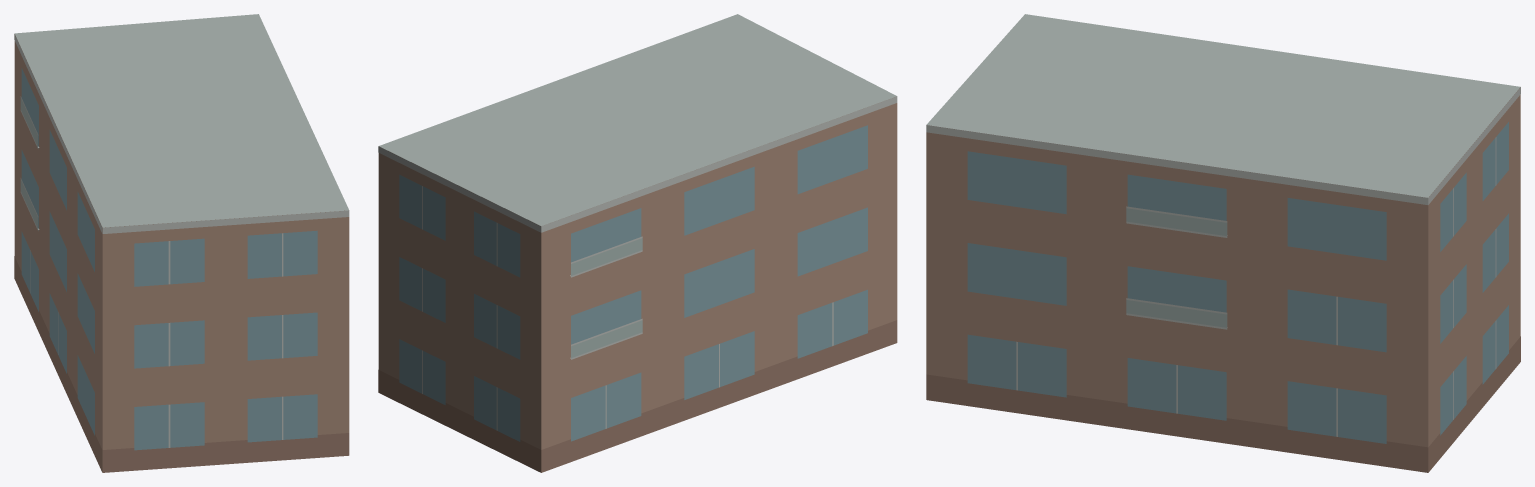
Rendered from survey-upis-32877218.glb.
3 views of the same model, side by side, from view 1: azimuth 30°, elevation 25°; view 2: azimuth 150°, elevation 25°; view 3: azimuth 270°, elevation 25° (orthographic). The views are drawn at different scales.
Visible parts, largest first — view 1: survey-upis-32877218.tmp; view 2: survey-upis-32877218.tmp; view 3: survey-upis-32877218.tmp.
Part boxes in pixels (bbox=[...]): survey-upis-32877218.tmp: bbox=[14, 14, 349, 472]; survey-upis-32877218.tmp: bbox=[378, 14, 897, 472]; survey-upis-32877218.tmp: bbox=[926, 14, 1520, 472].
Size of the model in its own units: 13.13 by 9.15 by 17.94.
